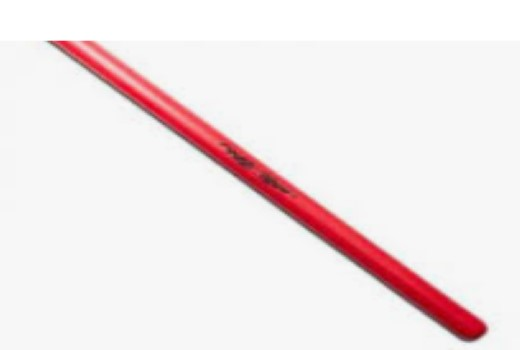baston_e: (50, 51, 453, 341)
baston_v: (37, 27, 115, 65), (446, 306, 497, 347)
